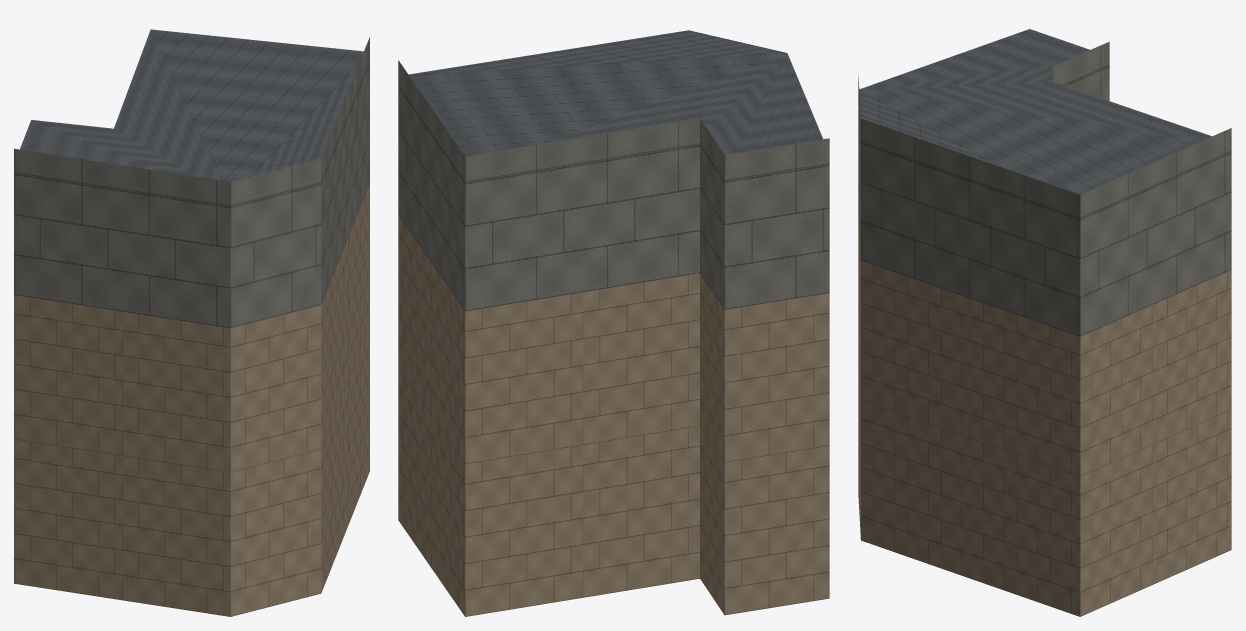
File: bld_c-40_-48_819.gltf
3 views of the same model, side by side, from view 1: azimuth 30°, elevation 25°; view 2: azimuth 150°, elevation 25°; view 3: azimuth 270°, elevation 25° (orthographic). The views are drawn at different scales.
Visible parts, largest first — view 1: bld_c-40_-48_819; view 2: bld_c-40_-48_819; view 3: bld_c-40_-48_819.
Part boxes in pixels (x1,y1,x2,y2): bld_c-40_-48_819: (14,29,369,616); bld_c-40_-48_819: (398,30,829,616); bld_c-40_-48_819: (858,29,1231,616).
Bounding box in the file's own units: 6.23 × 6.78 × 5.43.
4 materials, 4 textured.
